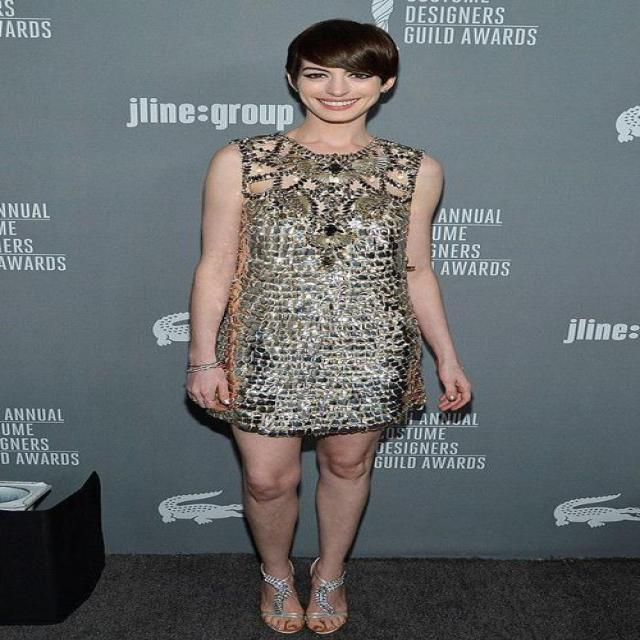Manusia: (197, 31, 435, 602)
